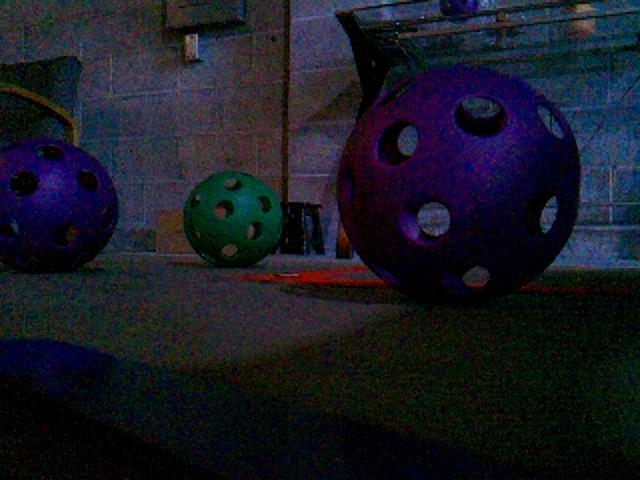Green: (181, 170, 283, 266), (438, 0, 479, 21)
Purple: (336, 67, 581, 301), (0, 141, 119, 271)
